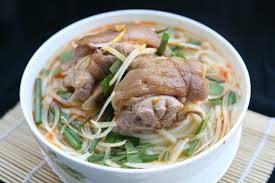pork: (114, 50, 203, 137)
